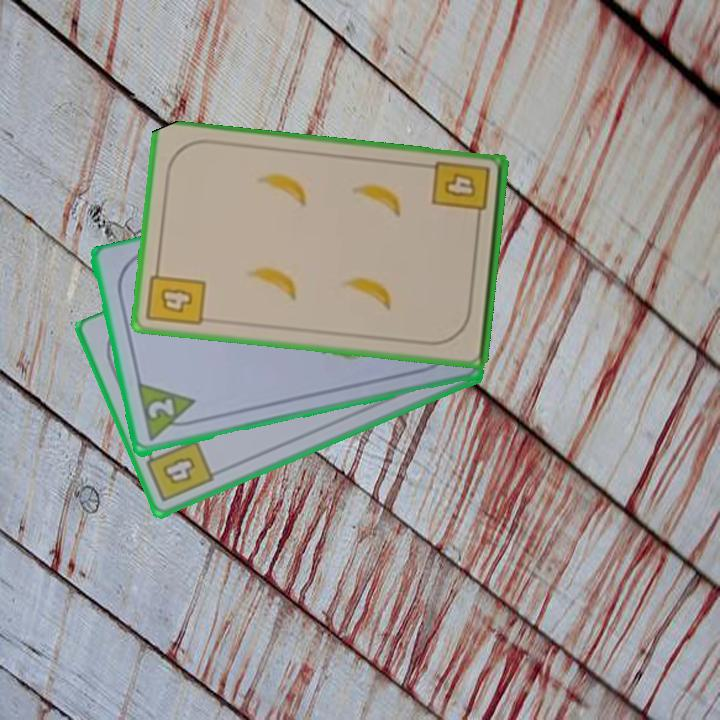2p: (133, 380, 202, 445)
4b: (141, 436, 217, 505), (143, 261, 209, 329), (429, 157, 493, 227)
